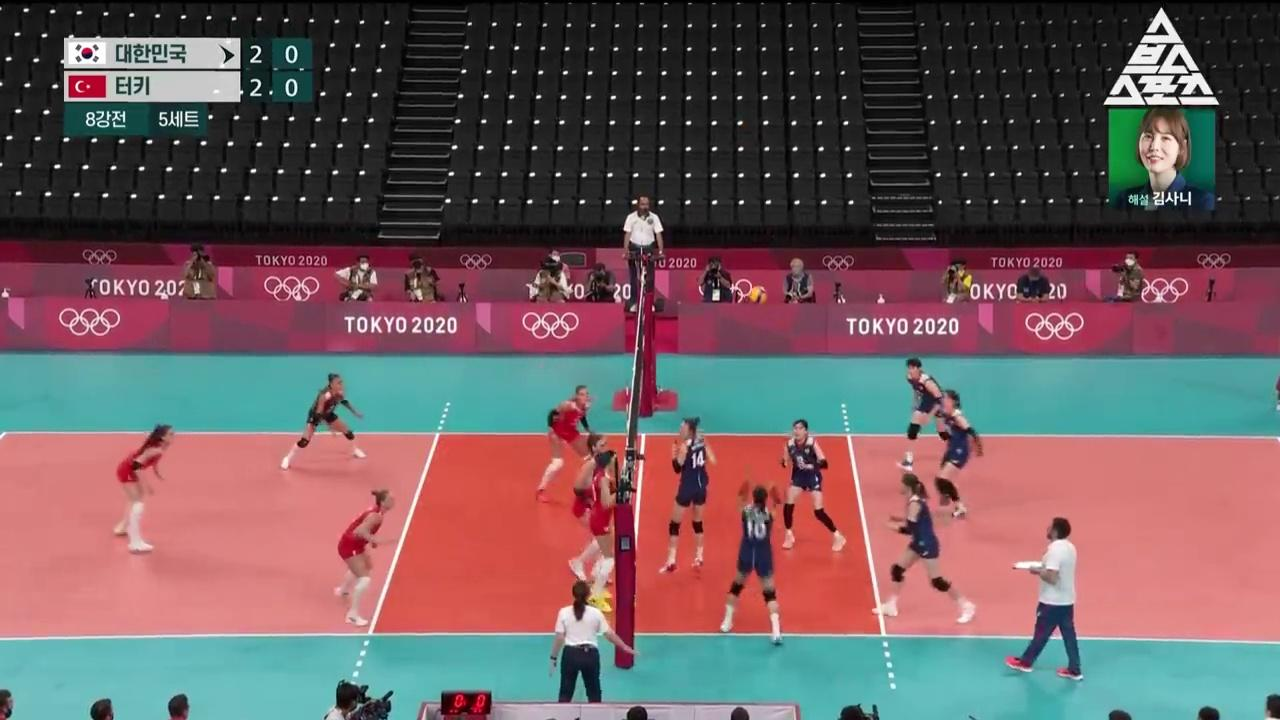ball: (750, 286, 766, 305)
player: (872, 474, 976, 623), (720, 462, 782, 644), (660, 417, 717, 574), (782, 419, 846, 551), (335, 490, 397, 626), (282, 374, 367, 469), (114, 424, 174, 552), (537, 386, 596, 504), (936, 389, 984, 519), (896, 358, 950, 473), (569, 434, 610, 579), (587, 450, 615, 611)
referee: (549, 580, 638, 702), (623, 195, 663, 313)
